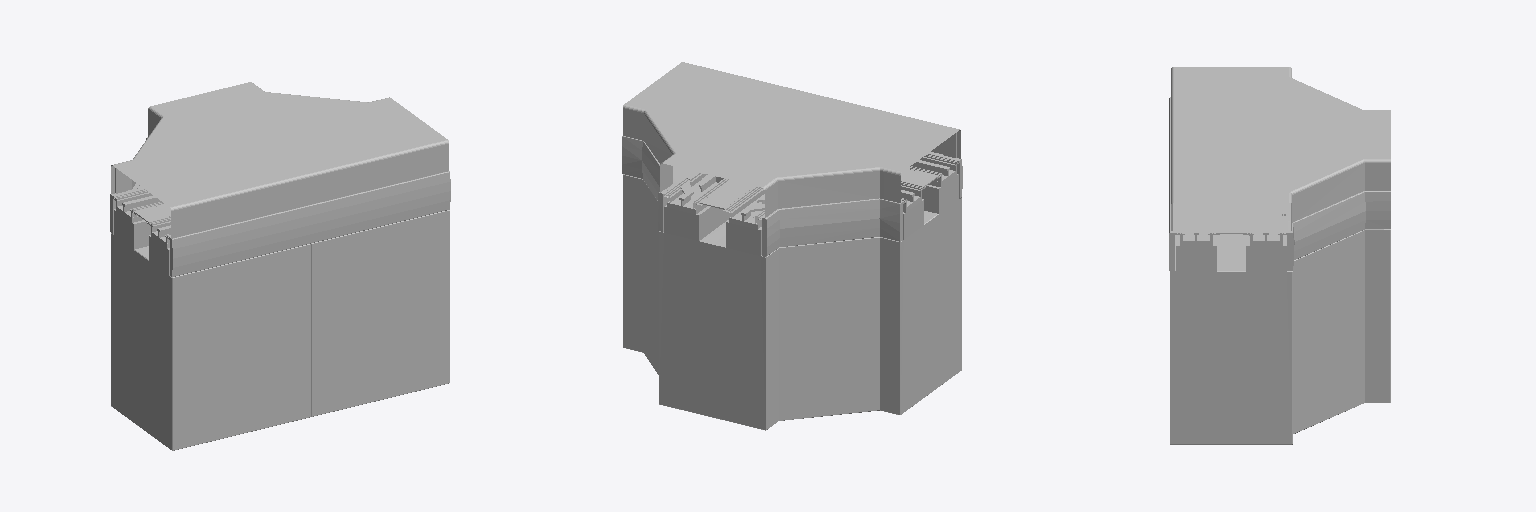
Rendered from Automation Track T-Module.obj.
The picture shows the model from 3 angles: view 1: azimuth 30°, elevation 25°; view 2: azimuth 150°, elevation 25°; view 3: azimuth 270°, elevation 25°; orthographic projection.
Parts seen in each view (by area): view 1: object4, object5, object1, object3, object6; view 2: object1, object4, object5, object3, object2, object6; view 3: object5, object4, object1, object3, object2, object6.
Part boxes in pixels (x1,y1,x2,y2): object4: (111, 203, 449, 450); object5: (111, 82, 448, 238); object1: (110, 137, 450, 276); object3: (113, 186, 170, 245); object6: (118, 85, 444, 209); object1: (622, 136, 962, 429); object4: (659, 168, 961, 430); object5: (623, 62, 960, 217); object3: (663, 153, 959, 224); object2: (670, 158, 955, 223); object6: (628, 63, 955, 215); object5: (1171, 67, 1390, 230); object4: (1170, 229, 1390, 444); object1: (1169, 97, 1390, 433); object3: (1175, 203, 1290, 243); object2: (1183, 203, 1279, 240); object6: (1171, 69, 1383, 201).
Size of the model in its own units: 50.79 by 42.31 by 35.22.